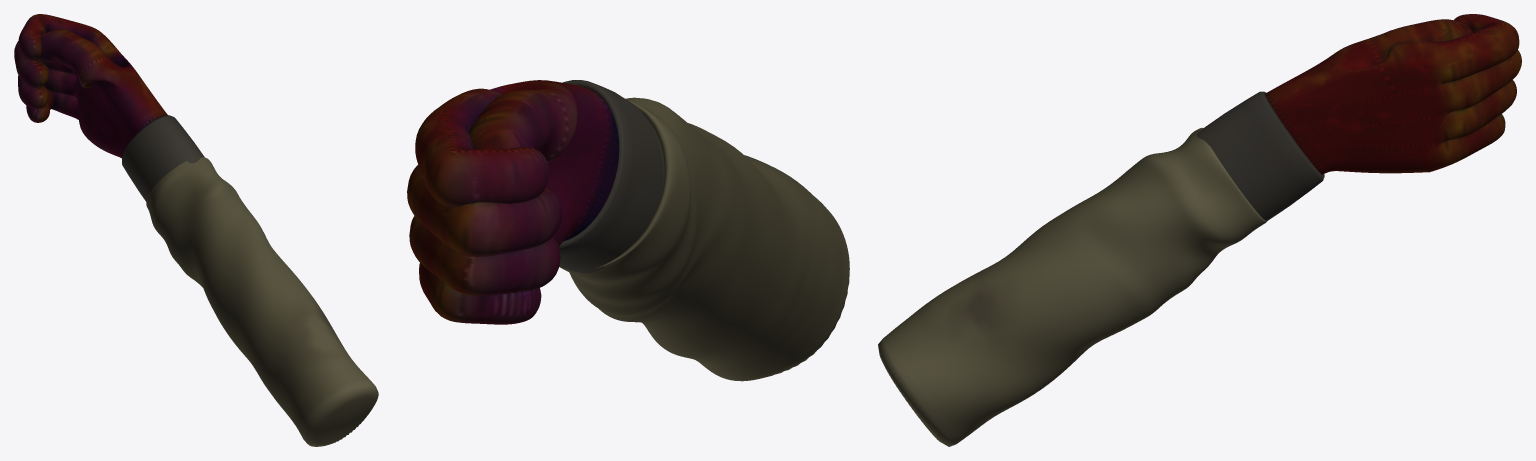
Rendered from fp_hand_R_small.glb.
3 views of the same model, side by side, from view 1: azimuth 30°, elevation 25°; view 2: azimuth 150°, elevation 25°; view 3: azimuth 270°, elevation 25° (orthographic). The views are drawn at different scales.
Visible parts, largest first — view 1: fp_hand_R_small; view 2: fp_hand_R_small; view 3: fp_hand_R_small.
Part boxes in pixels (x1,y1,x2,y2): fp_hand_R_small: (14, 14, 378, 446); fp_hand_R_small: (407, 80, 849, 381); fp_hand_R_small: (878, 14, 1521, 446).
Bounding box in the file's own units: 0.1327 × 0.257 × 0.4013.
Materials: 3 (1 with a texture image).
